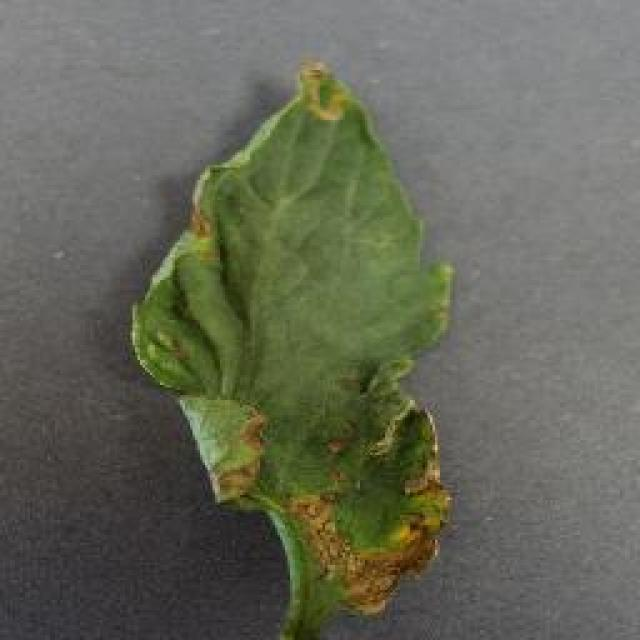Tomato___Bacterial_spot: (129, 60, 459, 638)
